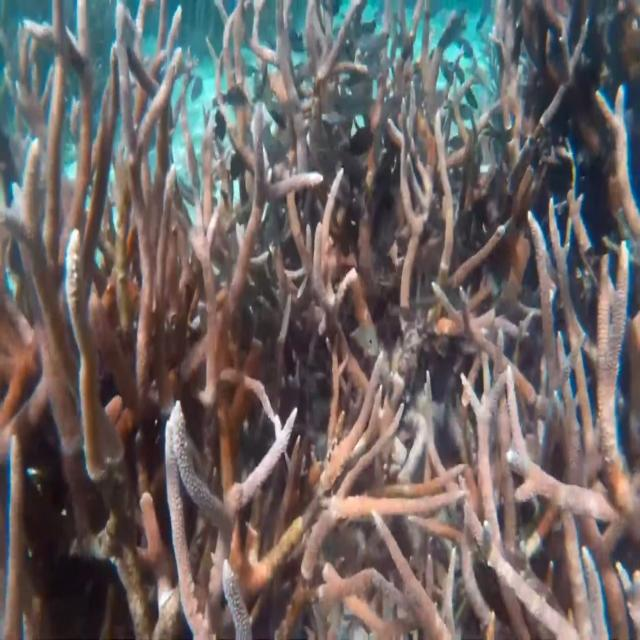Staghorn-Coral -Endangered-: (6, 9, 640, 640)
